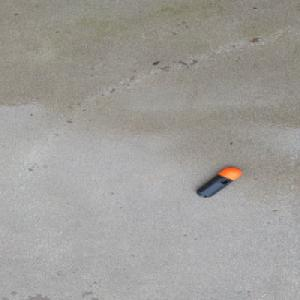PlasticPart: (194, 166, 242, 198)
